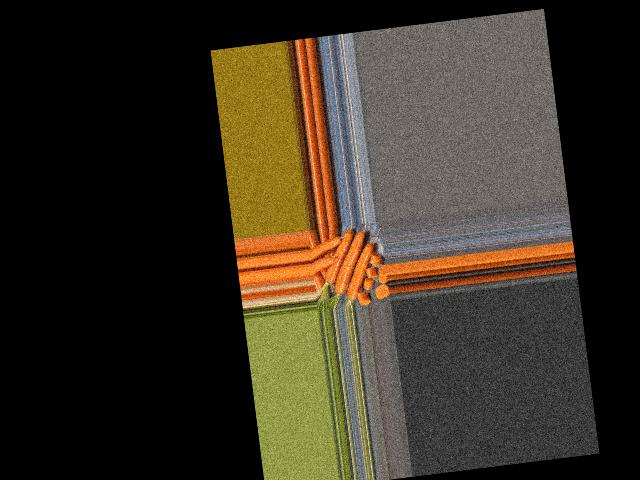carrot: (317, 227, 358, 285)
